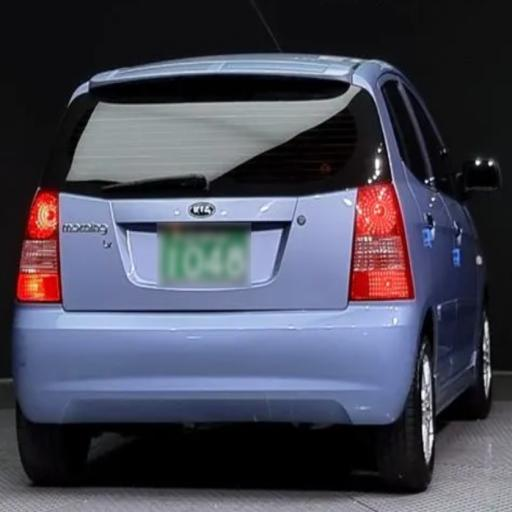normal: (1, 27, 511, 512)
